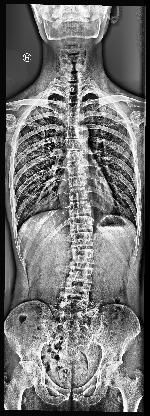Vertebrae: (65, 282, 92, 300), (66, 266, 94, 282), (71, 248, 95, 264), (68, 216, 92, 230), (71, 232, 93, 246), (68, 188, 88, 200), (69, 202, 89, 214), (65, 150, 81, 164), (65, 139, 83, 151), (65, 163, 83, 175), (64, 116, 84, 126), (68, 175, 84, 187), (65, 94, 83, 104), (64, 127, 82, 137), (65, 105, 82, 115), (65, 83, 82, 91)
